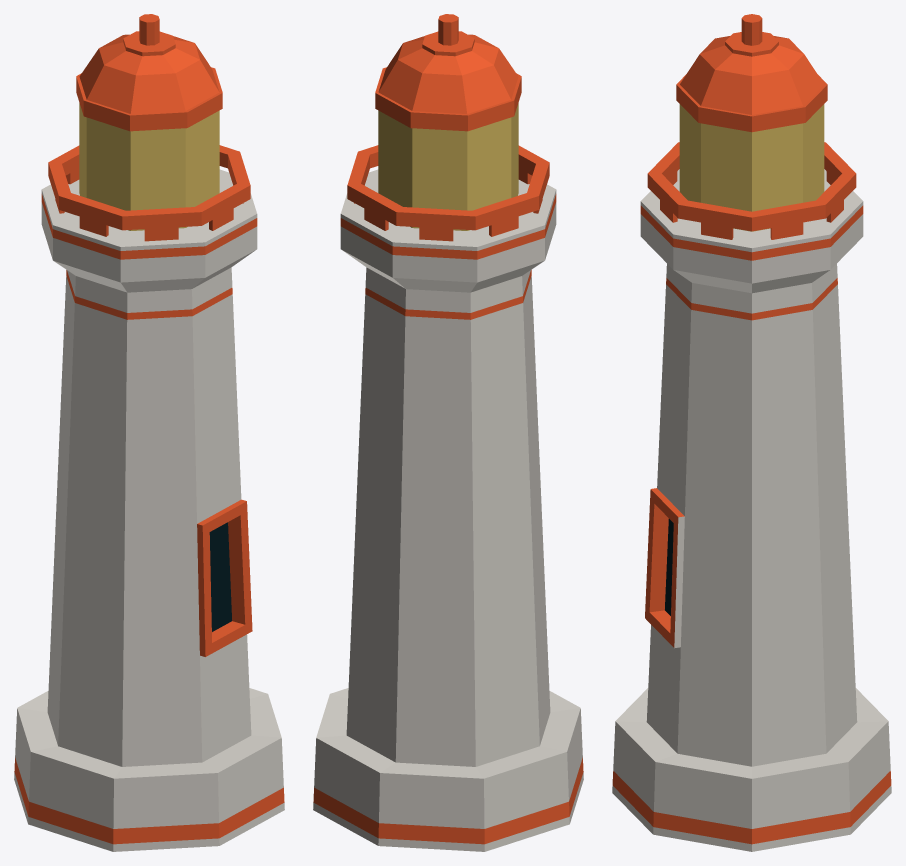
File: Faro.FBX
3 renders of one model, left to right at view 1: azimuth 30°, elevation 25°; view 2: azimuth 150°, elevation 25°; view 3: azimuth 270°, elevation 25°, orthographic.
Visible parts, largest first — view 1: Cylinder001; view 2: Cylinder001; view 3: Cylinder001.
Part boxes in pixels (box(x1,y1,x2,y2)): Cylinder001: box(14, 14, 284, 851); Cylinder001: box(313, 14, 583, 851); Cylinder001: box(612, 14, 891, 851).
Size of the model in its own units: 96.33 by 295 by 96.33.
